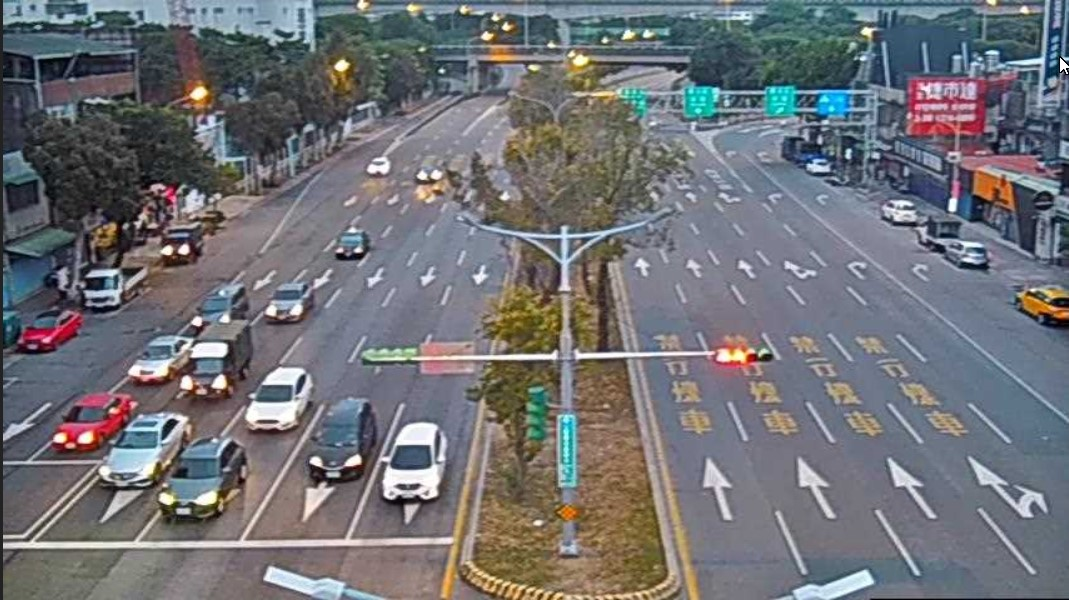Business Passenger Car: (1018, 276, 1069, 330)
Private Passenger Car: (158, 440, 244, 528), (102, 412, 188, 492), (44, 386, 126, 460), (386, 422, 448, 512), (304, 398, 368, 484), (244, 360, 308, 436), (124, 328, 192, 386), (190, 276, 246, 332), (18, 306, 78, 352), (268, 278, 314, 324), (942, 242, 990, 276), (332, 228, 370, 264), (415, 152, 451, 185), (884, 198, 916, 226), (366, 156, 394, 179)
